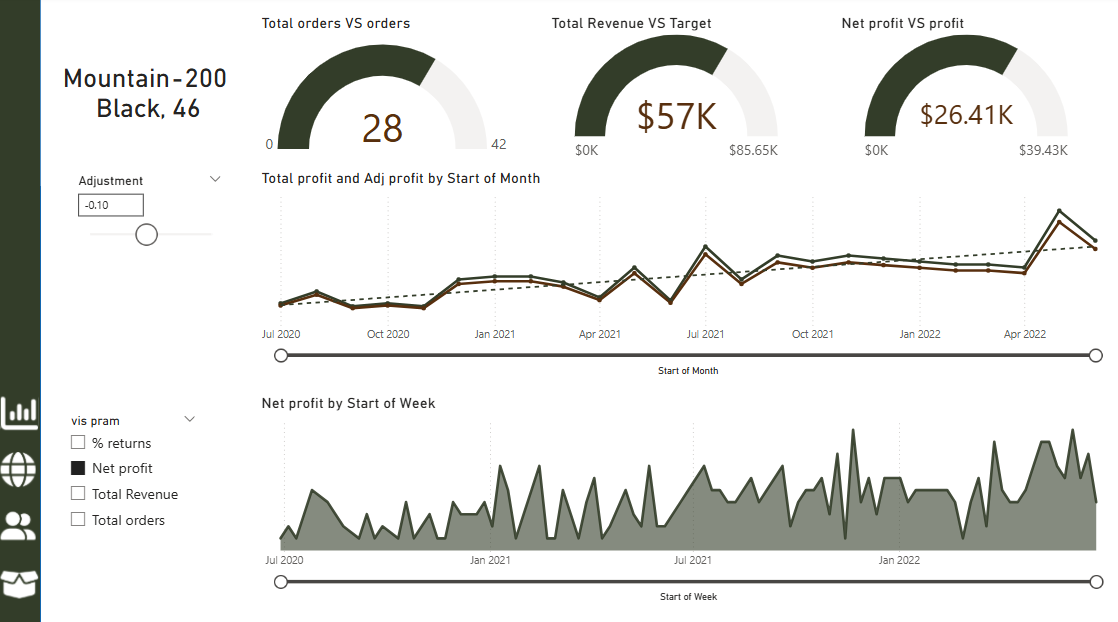

What the dashboard file says about the page in this screenshot:
{"tool":"powerbi","page":{"name":"Product Dashboard","canvas":[1280,720],"ordinal":3},"visuals":[{"type":"shape","box":[0,0,50,720],"z":0},{"type":"gauge","title":"Total orders VS orders","fields":{"Y":["Dax Measures.Total orders"],"MaxValue":["Dax Measures.target of orders"]},"box":[295.7,20,294.3,175.7],"z":1000},{"type":"lineChart","fields":{"Y":["Dax Measures.Net profit","Dax Measures.Adj profit"],"Category":["Calendar Lookup.Start of Year Hierarchy.Start of Year","Calendar Lookup.Start of Year Hierarchy.Start of Month","Calendar Lookup.Start of Year Hierarchy.Start of Week","Calendar Lookup.Start of Year Hierarchy.Date"]},"box":[295.7,196.3,984.1,240.5],"z":2000},{"type":"areaChart","fields":{"Y":["Dax Measures.Total orders"],"Category":["Calendar Lookup.Start of Year Hierarchy.Start of Year","Calendar Lookup.Start of Year Hierarchy.Start of Month","Calendar Lookup.Start of Year Hierarchy.Start of Week","Calendar Lookup.Start of Year Hierarchy.Date"]},"box":[295.7,452.8,984.1,241.7],"z":3000},{"type":"gauge","title":"Total Revenue VS Target ","fields":{"Y":["Dax Measures.Total Revenue"],"MaxValue":["Dax Measures.Target month of revenue"]},"box":[625.7,19.9,294.4,176.4],"z":4000},{"type":"gauge","title":"Net profit VS profit","fields":{"Y":["Dax Measures.Net profit"],"MaxValue":["Dax Measures.target of profit"]},"box":[955.7,19.9,294.4,176.4],"z":5000},{"type":"actionButton","box":[0,448.9,81.4,50.9],"z":6000},{"type":"actionButton","box":[0,515.4,111.9,47.9],"z":7000},{"type":"actionButton","box":[0,579.5,111.9,47.9],"z":8000},{"type":"actionButton","box":[0,643.6,111.9,50.9],"z":9000},{"type":"card","fields":{"Values":["Min(Product Lookup.ProductName)"]},"box":[50.3,0,245.4,216],"z":10000},{"type":"slicer","fields":{"Values":["vis pram.vis pram"]},"box":[71.2,469.9,166.9,187.7],"z":11000},{"type":"slicer","fields":{"Values":["Adjustment.Adjustment"]},"box":[79.9,196.1,187.4,177.3],"z":12000}]}

Visuals, with their boxes on the page's 1280x720 design canvas (x1, y1, x2, y2). These are canvas units, not pixel positions in the 1118x622 screenshot, which may show the page scaled, cropped or inside an application window:
shape: box=[0, 0, 50, 720]
"Total orders VS orders" gauge: box=[296, 20, 590, 196]
lineChart - Dax Measures.Net profit x Dax Measures.Adj profit: box=[296, 196, 1280, 437]
areaChart - Dax Measures.Total orders x Calendar Lookup.Start of Year Hierarchy.Start of Year: box=[296, 453, 1280, 694]
"Total Revenue VS Target " gauge: box=[626, 20, 920, 196]
"Net profit VS profit" gauge: box=[956, 20, 1250, 196]
actionButton: box=[0, 449, 81, 500]
actionButton: box=[0, 515, 112, 563]
actionButton: box=[0, 580, 112, 627]
actionButton: box=[0, 644, 112, 694]
card - Min(Product Lookup.ProductName): box=[50, 0, 296, 216]
slicer - vis pram.vis pram: box=[71, 470, 238, 658]
slicer - Adjustment.Adjustment: box=[80, 196, 267, 373]
